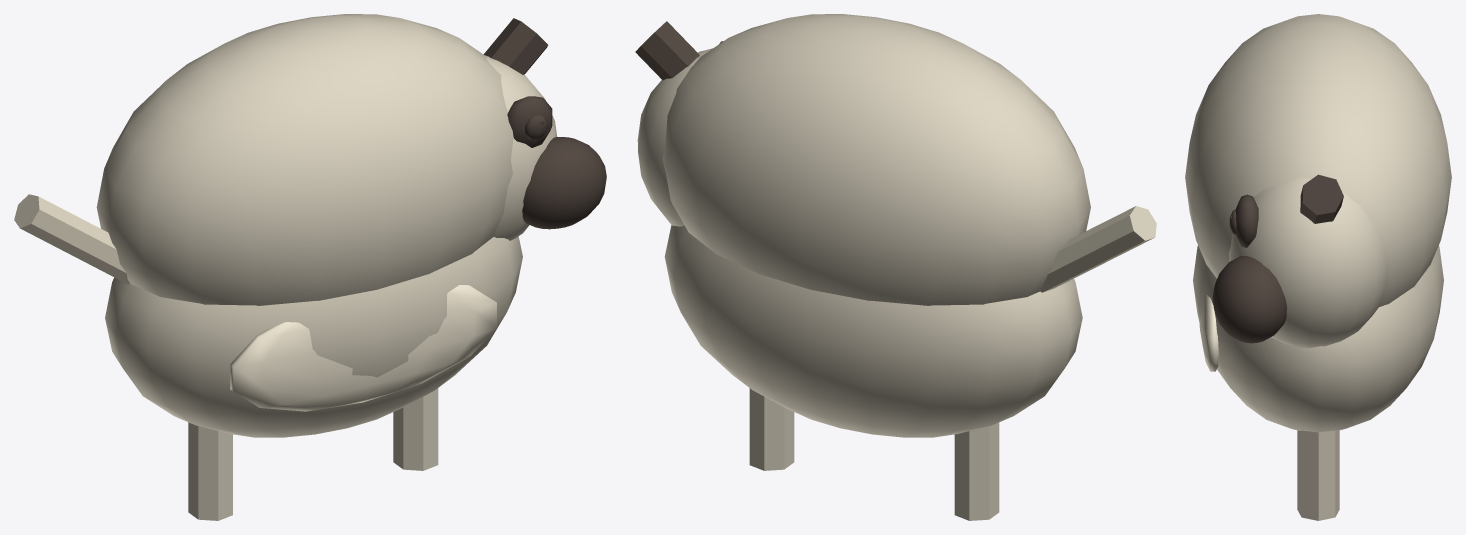
The model's file is sheep.glb.
The picture shows the model from 3 angles, left to right: view 1: azimuth 30°, elevation 25°; view 2: azimuth 150°, elevation 25°; view 3: azimuth 270°, elevation 25°; orthographic projection. The views are drawn at different scales.
Parts seen in each view (by area): view 1: sheep_root; view 2: sheep_root; view 3: sheep_root.
Boxes of the visible parts, <box> form: sheep_root: <box>14,14,606,520</box>; sheep_root: <box>635,14,1156,520</box>; sheep_root: <box>1185,14,1451,520</box>.
Bounding box in the file's own units: 1.24 × 1 × 0.5714.
